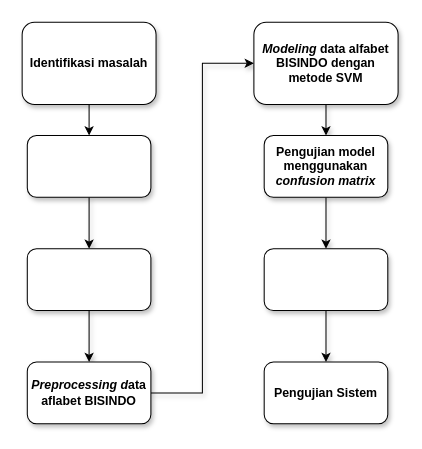
This 422x449 diagram has some shape labels left out. Each missing label, with the centre of its shape:
"Pembuatan Sistem" belongs at [326,281].
"Pengumpulan data alfabet BISINDO" belongs at [89,281].
"Studi literatur" belongs at [89,167].
